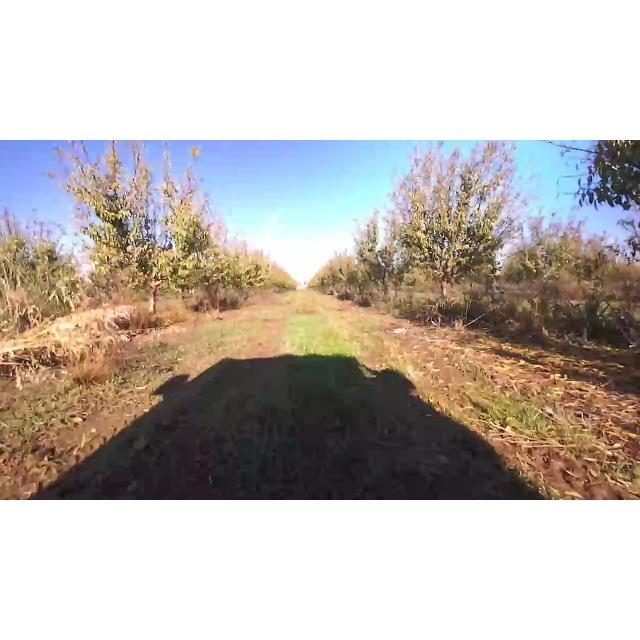tree: (49, 141, 223, 319), (388, 143, 530, 304), (349, 189, 415, 309), (172, 222, 254, 312)
